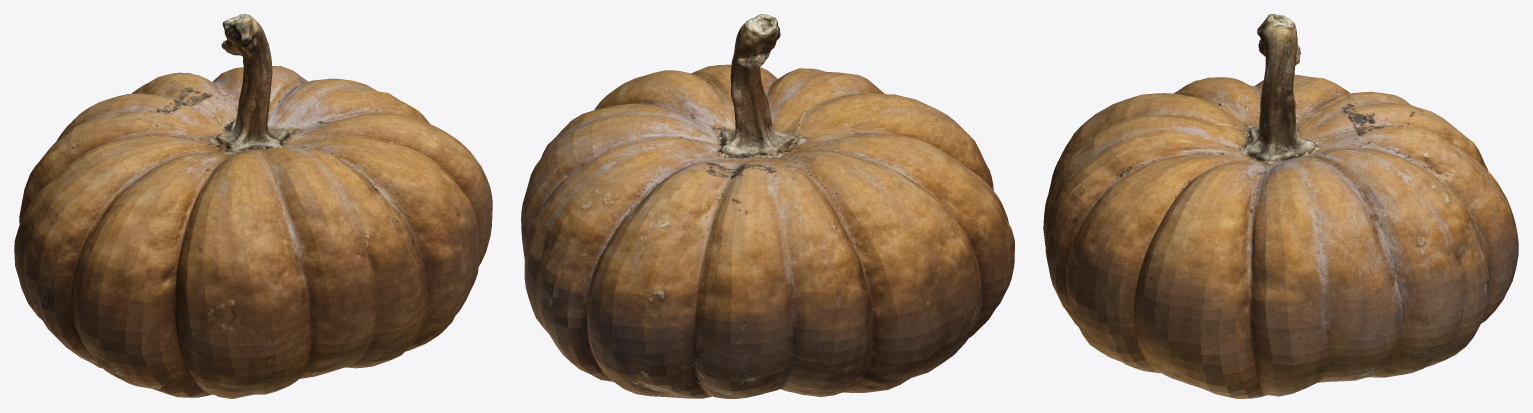
Rendered from pumpkin.fbx.
3 views of the same model, side by side, from view 1: azimuth 30°, elevation 25°; view 2: azimuth 150°, elevation 25°; view 3: azimuth 270°, elevation 25° (orthographic). The views are drawn at different scales.
Visible parts, largest first — view 1: Small Pumpkin; view 2: Small Pumpkin; view 3: Small Pumpkin.
Part boxes in pixels (<box>): Small Pumpkin: <box>14,14,492,398</box>; Small Pumpkin: <box>521,14,1014,398</box>; Small Pumpkin: <box>1043,14,1518,398</box>.
Size of the model in its own units: 21.13 by 15.54 by 20.9.
